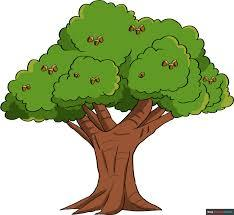tree: (2, 1, 234, 215)
